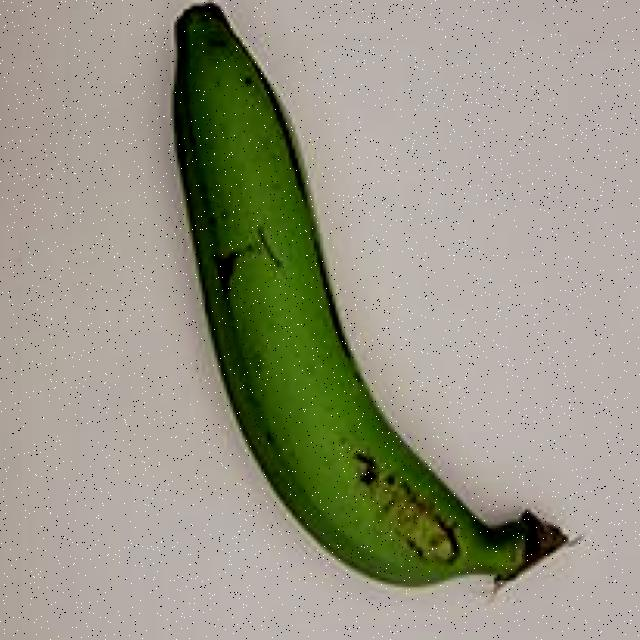Raw: (127, 0, 593, 624)
